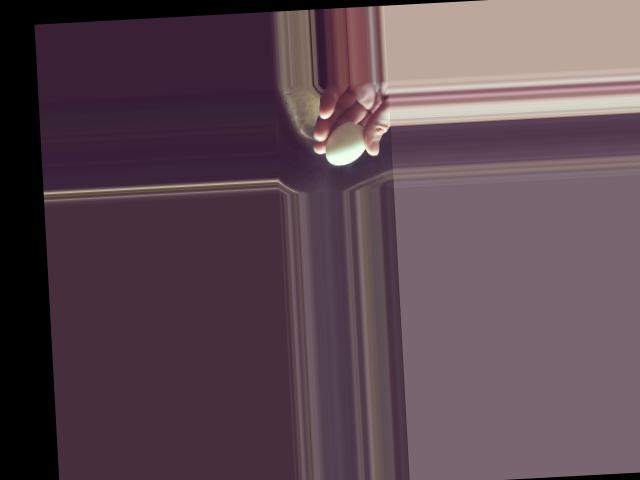egg: (324, 121, 366, 165)
